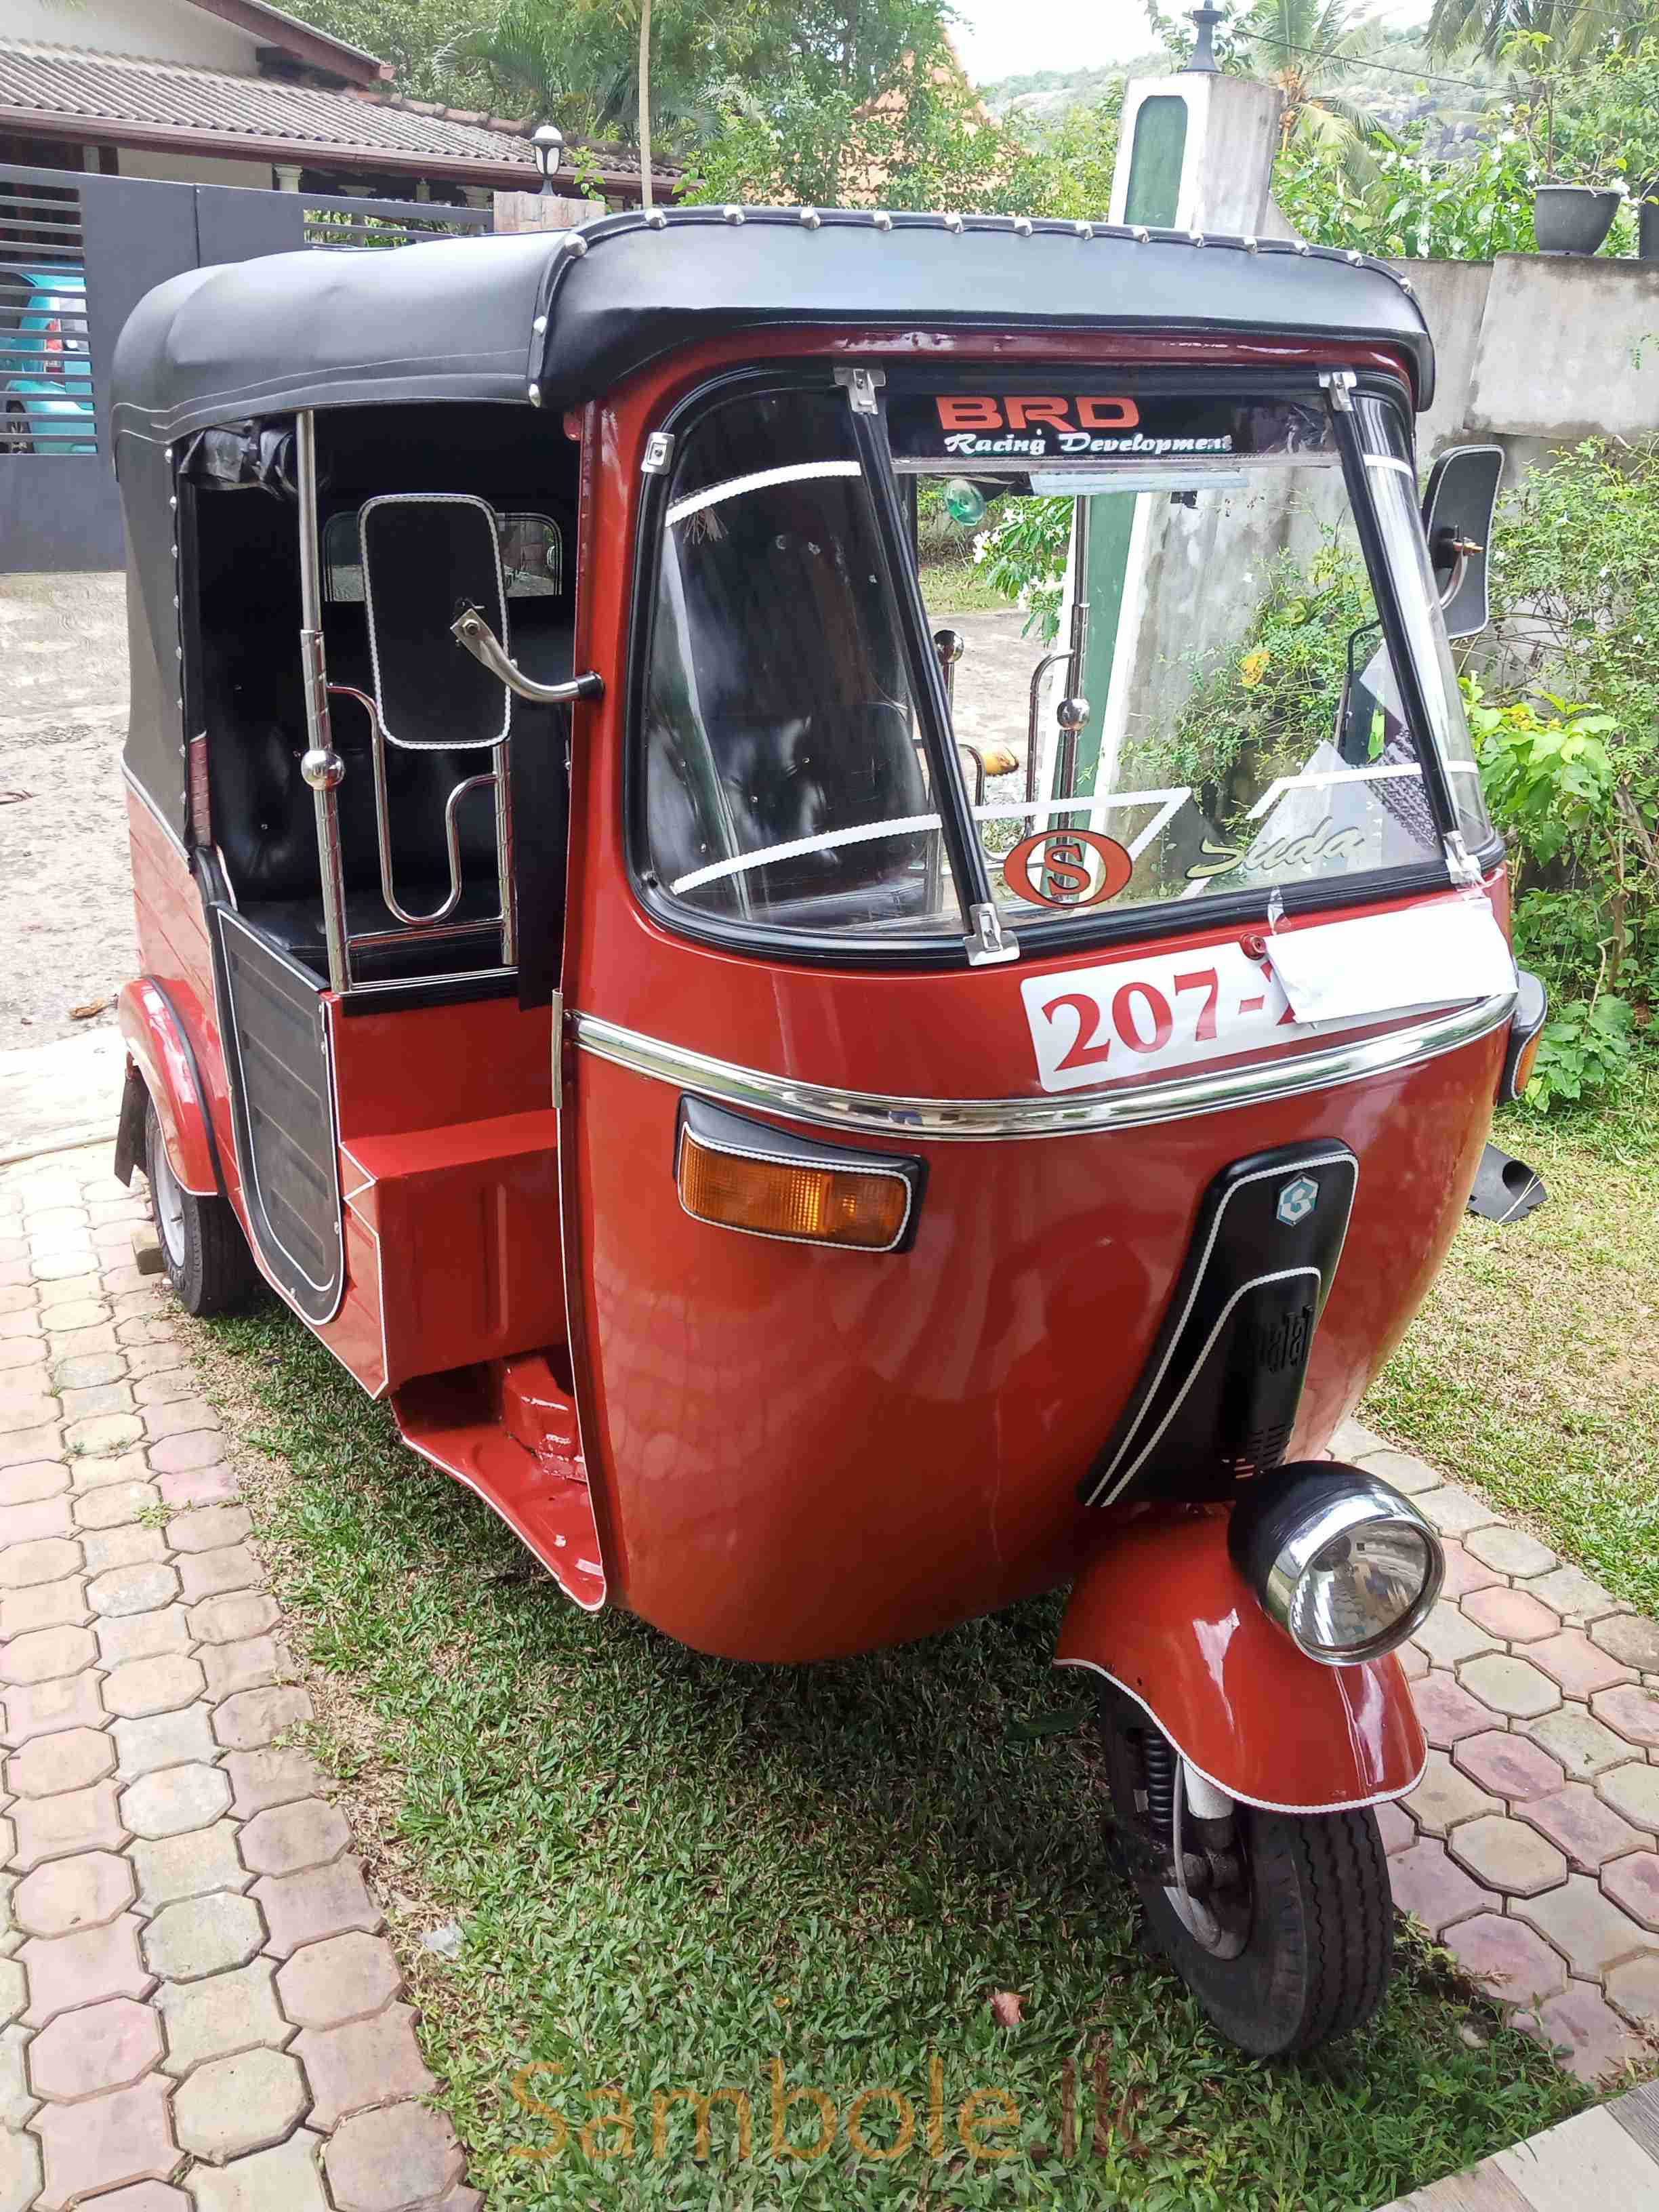threewheel: (113, 209, 1547, 2059)
